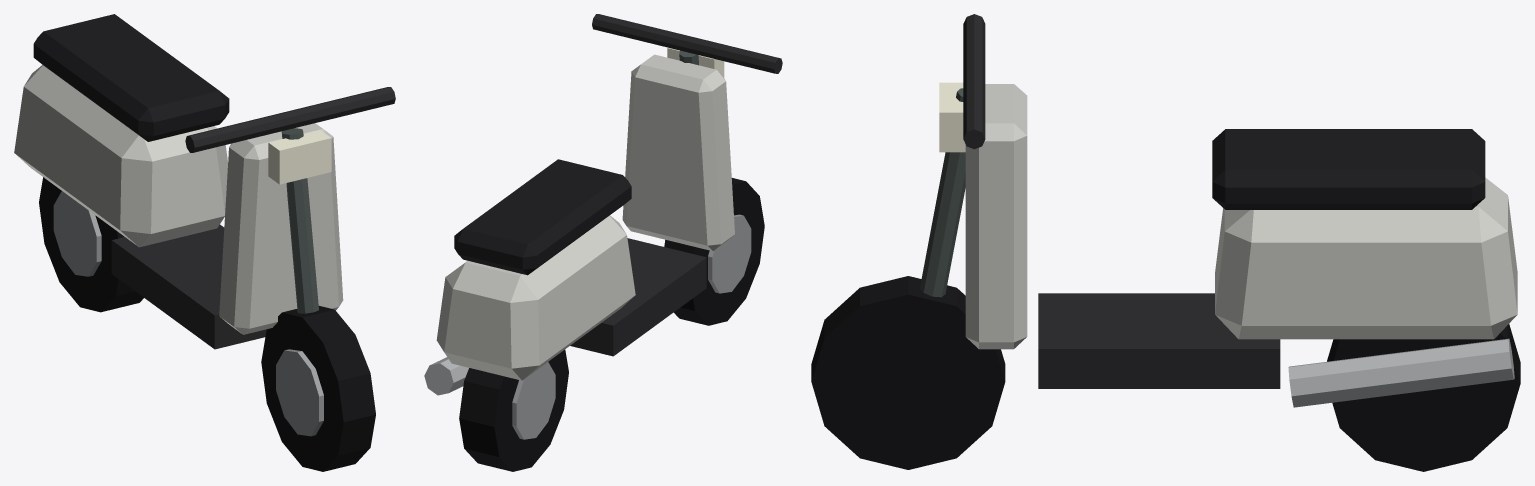
Rendered from scooter.glb.
3 renders of one model, left to right at view 1: azimuth 30°, elevation 25°; view 2: azimuth 150°, elevation 25°; view 3: azimuth 270°, elevation 25°, orthographic. The views are drawn at different scales.
Parts seen in each view (by area): view 1: Coque, Tablier, Selle, RoueAv, Plancher, RoueAr, Guidon, RoueAv_jante, Fourche, RoueAr_jante, Phare; view 2: Coque, Tablier, Selle, RoueAr, Plancher, RoueAv, Guidon, RoueAr_jante, RoueAv_jante, Pot, Phare; view 3: Coque, RoueAv, Selle, Plancher, Tablier, RoueAr, Pot, Fourche, Guidon, Phare.
Boxes of the visible parts, x1,y1,x2,y2 form: Coque: (14, 65, 227, 247); Tablier: (219, 123, 343, 334); Selle: (33, 14, 229, 141); RoueAv: (261, 306, 375, 471); Plancher: (111, 224, 266, 349); RoueAr: (39, 177, 143, 312); Guidon: (185, 87, 395, 152); RoueAv_jante: (276, 349, 323, 436); Fourche: (281, 128, 318, 313); RoueAr_jante: (53, 191, 101, 276); Phare: (268, 130, 331, 184); Coque: (436, 215, 635, 380); Tablier: (622, 54, 734, 251); Selle: (454, 159, 631, 275); RoueAr: (459, 349, 568, 471); Plancher: (570, 238, 706, 356); RoueAv: (664, 178, 764, 325); Guidon: (592, 14, 782, 73); RoueAr_jante: (512, 362, 555, 439); RoueAv_jante: (708, 214, 751, 293); Pot: (424, 357, 468, 395); Phare: (667, 47, 724, 77); Coque: (1215, 177, 1517, 339); RoueAv: (811, 276, 1005, 469); Selle: (1212, 129, 1485, 209); Plancher: (1038, 293, 1280, 388); Tablier: (965, 84, 1027, 349); RoueAr: (1327, 324, 1520, 471); Pot: (1288, 338, 1514, 407); Fourche: (920, 88, 965, 297); Guidon: (963, 14, 985, 149); Phare: (939, 82, 965, 152).
Bounding box in the file's own units: 0.62 × 0.975 × 1.61.
